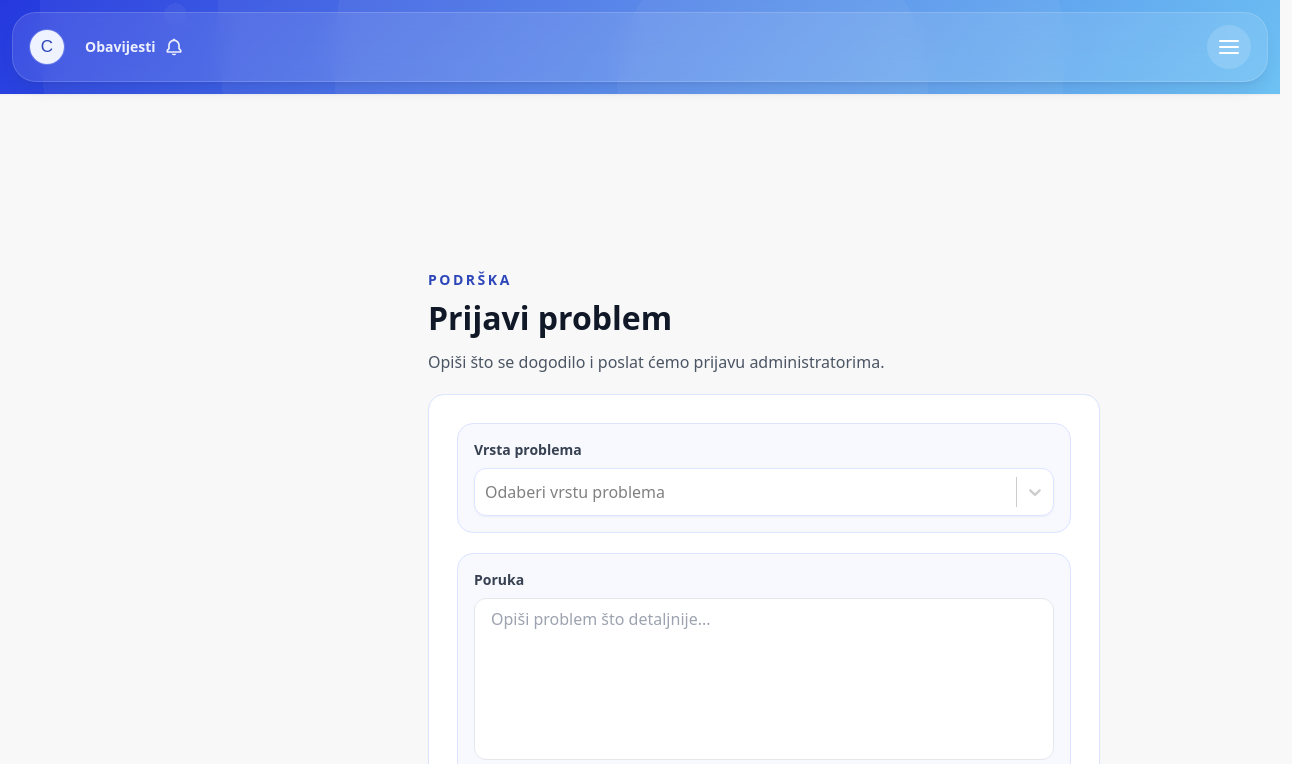
Test: report problem › allows an authenticated user to submit a problem report
expect the heading "Prijavi problem" is shown: met, box [428, 296, 672, 339]
Click the dropdown with id "report-problem-type" at {"x": 487, "y": 492}, box [485, 480, 489, 504]
(page scrolled)
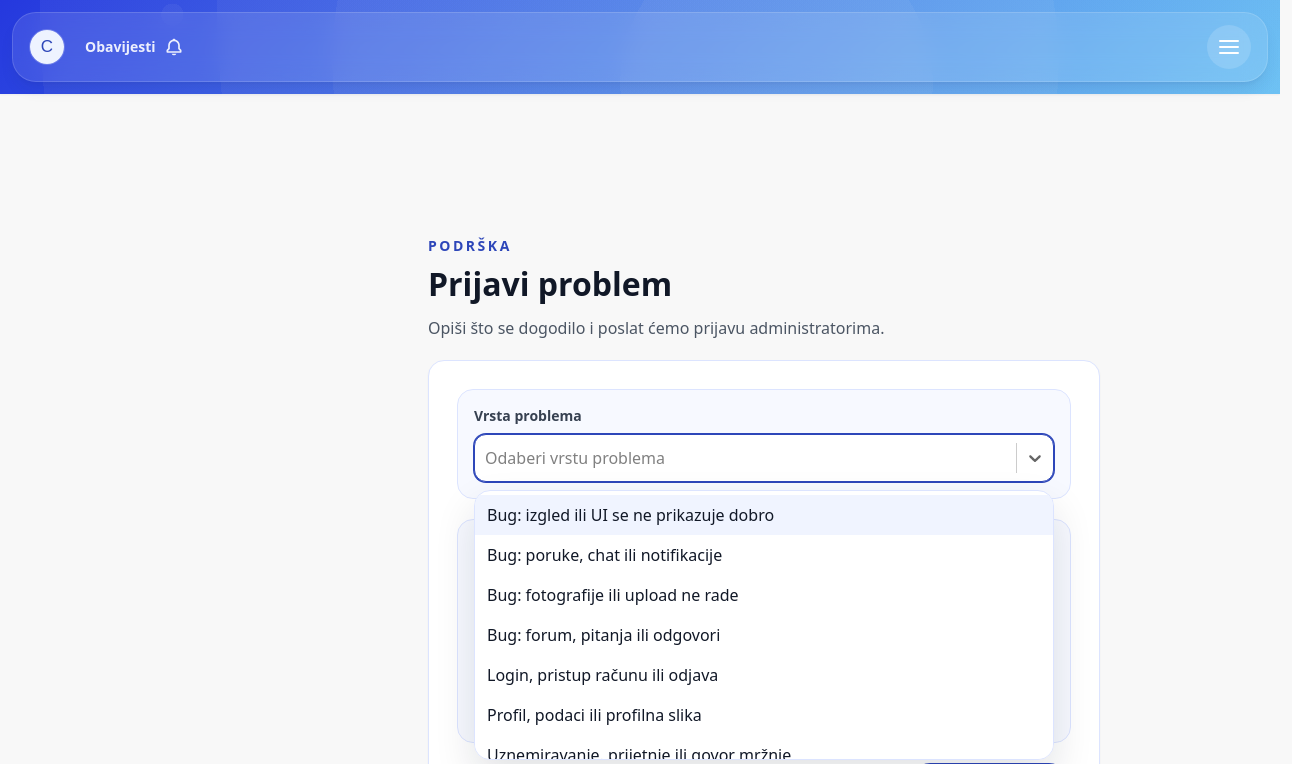
Type "Uznemiravanje" into the dropdown with id "report-problem-type" at {"x": 487, "y": 458}, box [485, 446, 489, 470]
Then press Enter
(page scrolled)
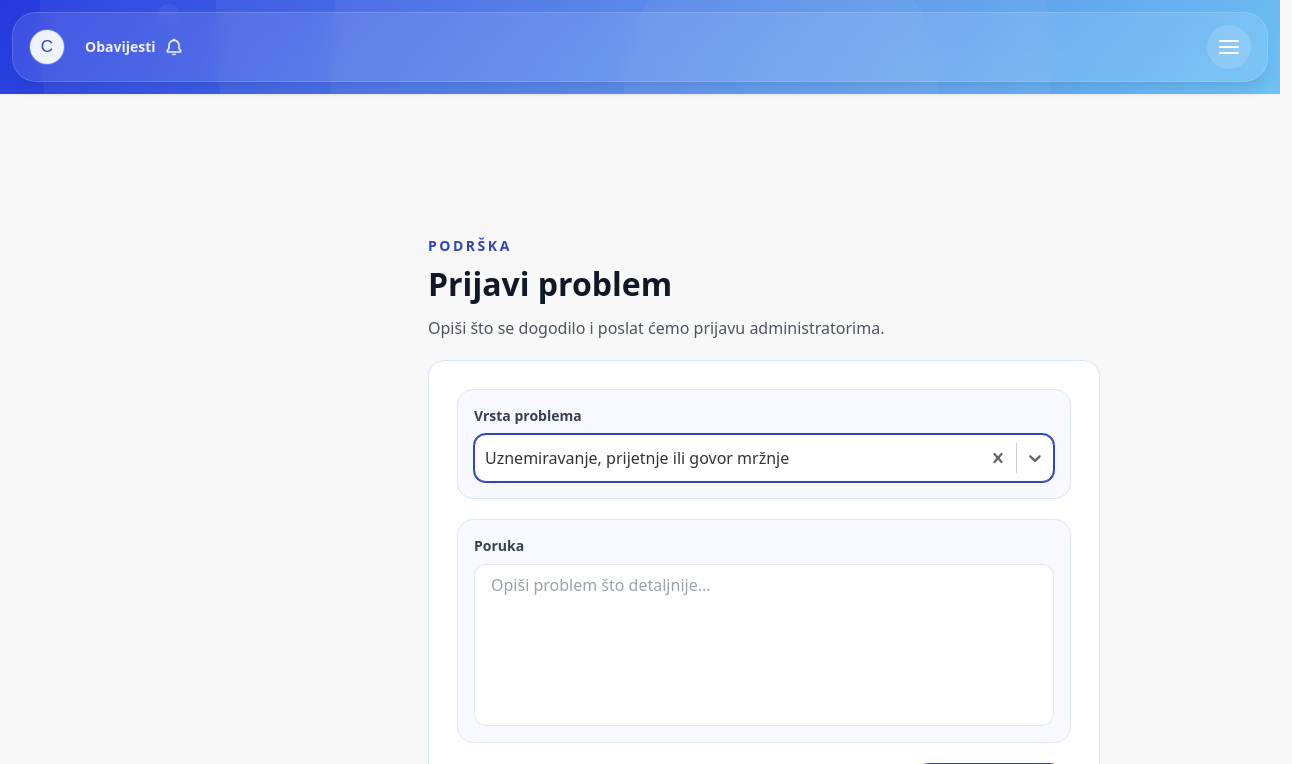
Type "Korisnik mi salje prijetece poruke u chatu." into the text box with placeholder "Opiši problem što detaljnije..." at {"x": 764, "y": 645}, box [474, 564, 1054, 726]
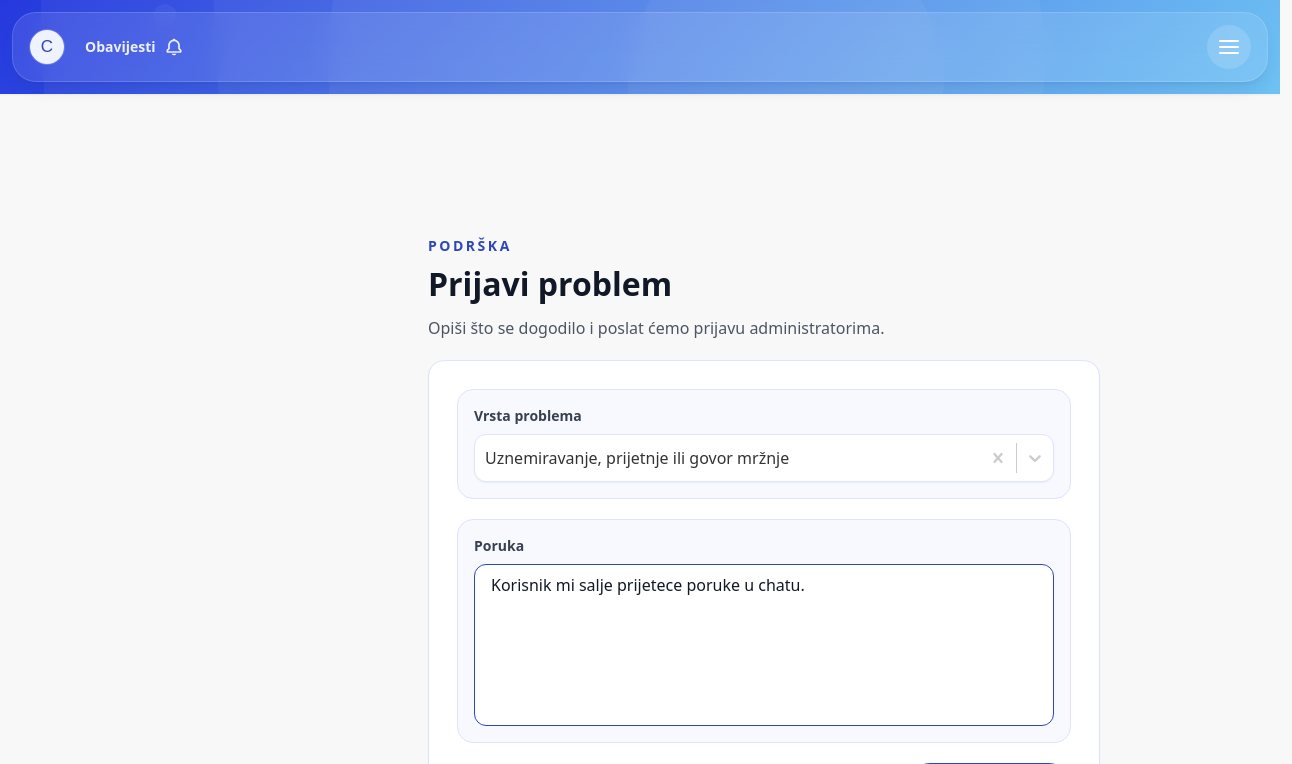
Scroll
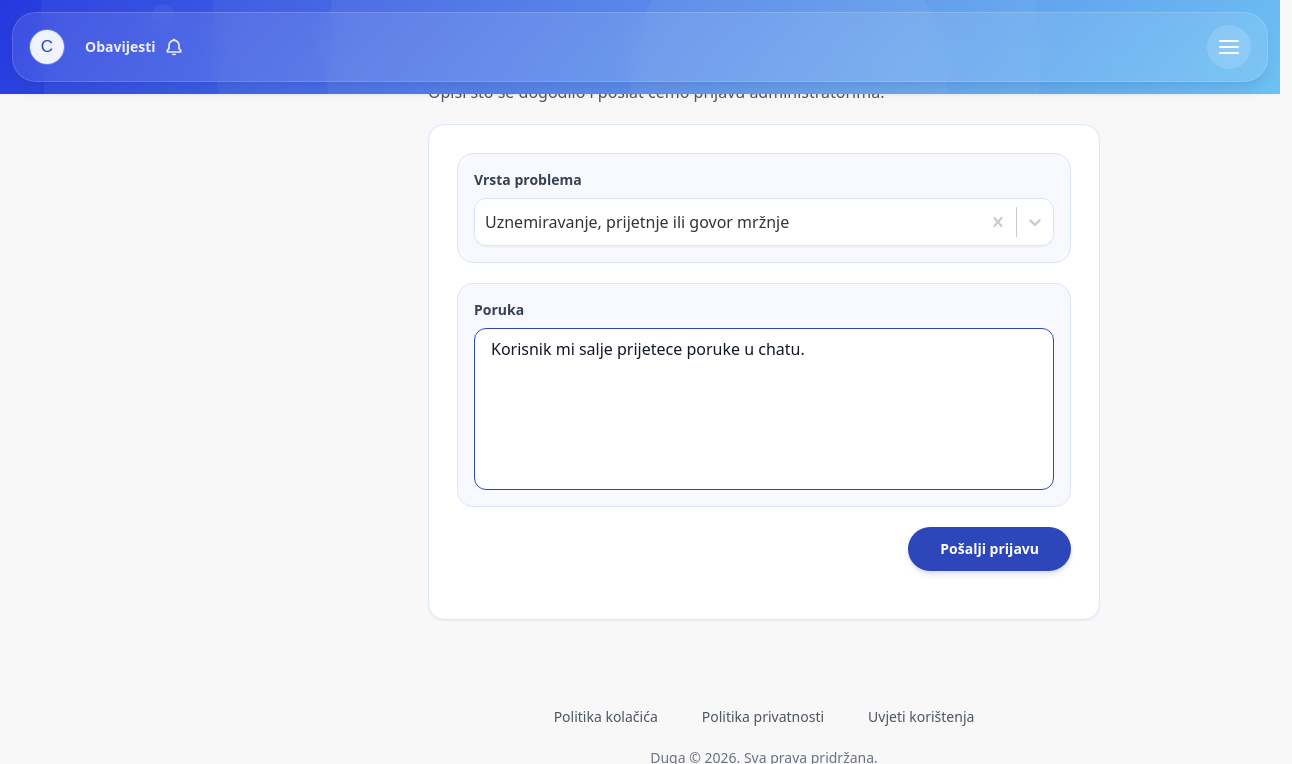
Click the button "Pošalji prijavu" at {"x": 990, "y": 549}, box [908, 527, 1071, 571]
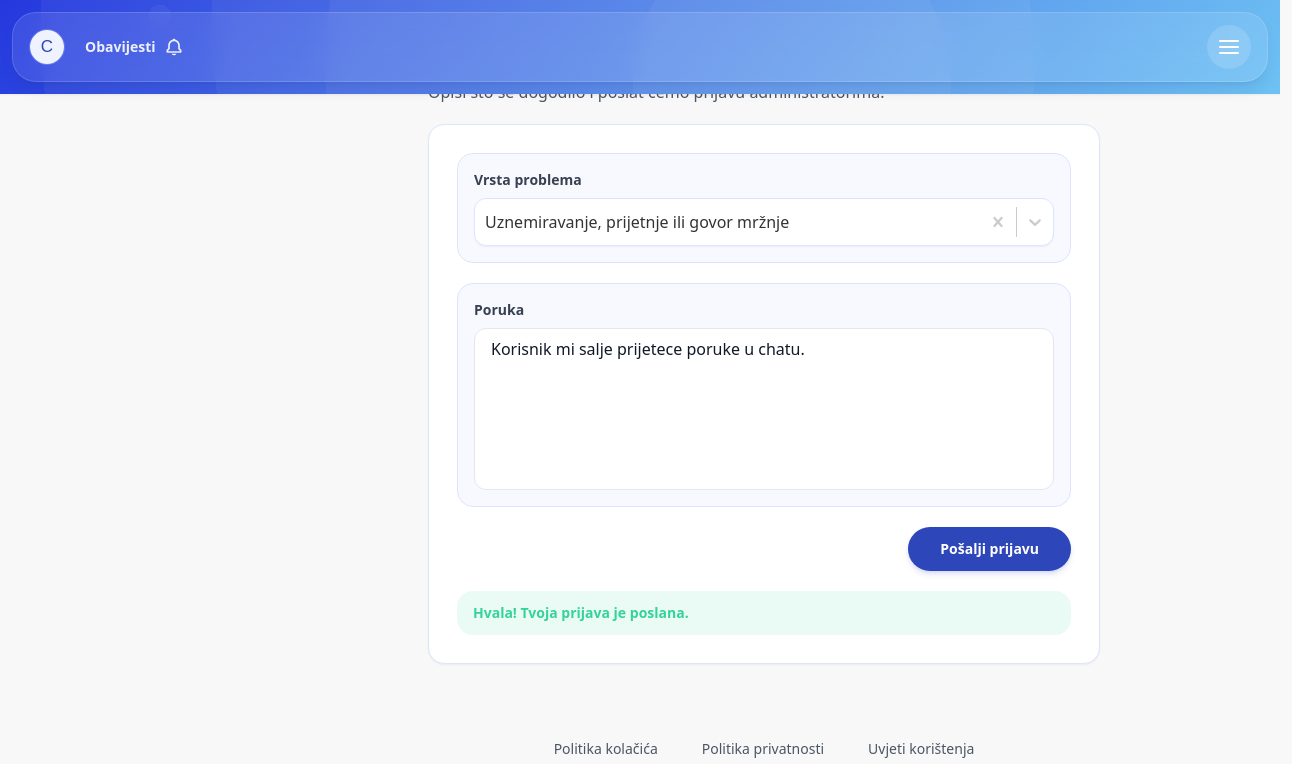
expect the text "Hvala! Tvoja prijava je poslana." is shown: met, box [457, 591, 1071, 635]
